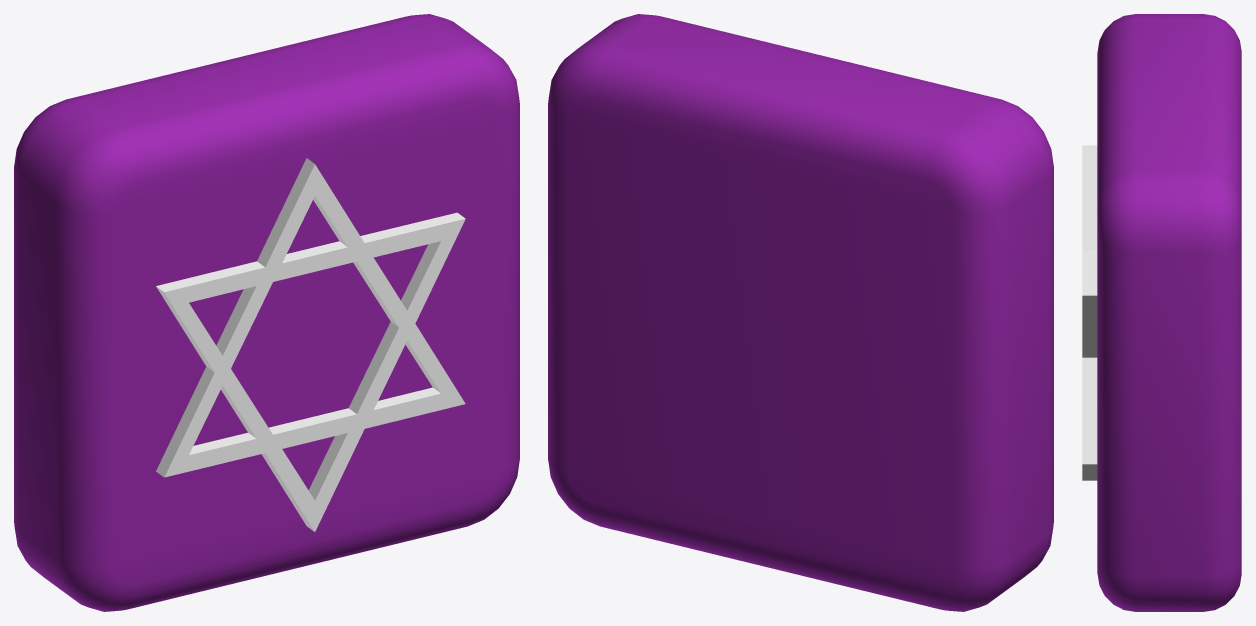
File: star_of_david.glb
The picture shows the model from 3 angles, left to right: view 1: azimuth 30°, elevation 25°; view 2: azimuth 150°, elevation 25°; view 3: azimuth 270°, elevation 25°; orthographic projection. The views are drawn at different scales.
Visible parts, largest first — view 1: Cube.6387; view 2: Cube.6387; view 3: Cube.6387.
Part boxes in pixels (x1=…): Cube.6387: x1=14, y1=14, x2=519, y2=611; Cube.6387: x1=548, y1=14, x2=1053, y2=611; Cube.6387: x1=1082, y1=14, x2=1241, y2=611.
Size of the model in its own units: 2.2 by 2.2 by 0.73.
1 material, 1 textured.
